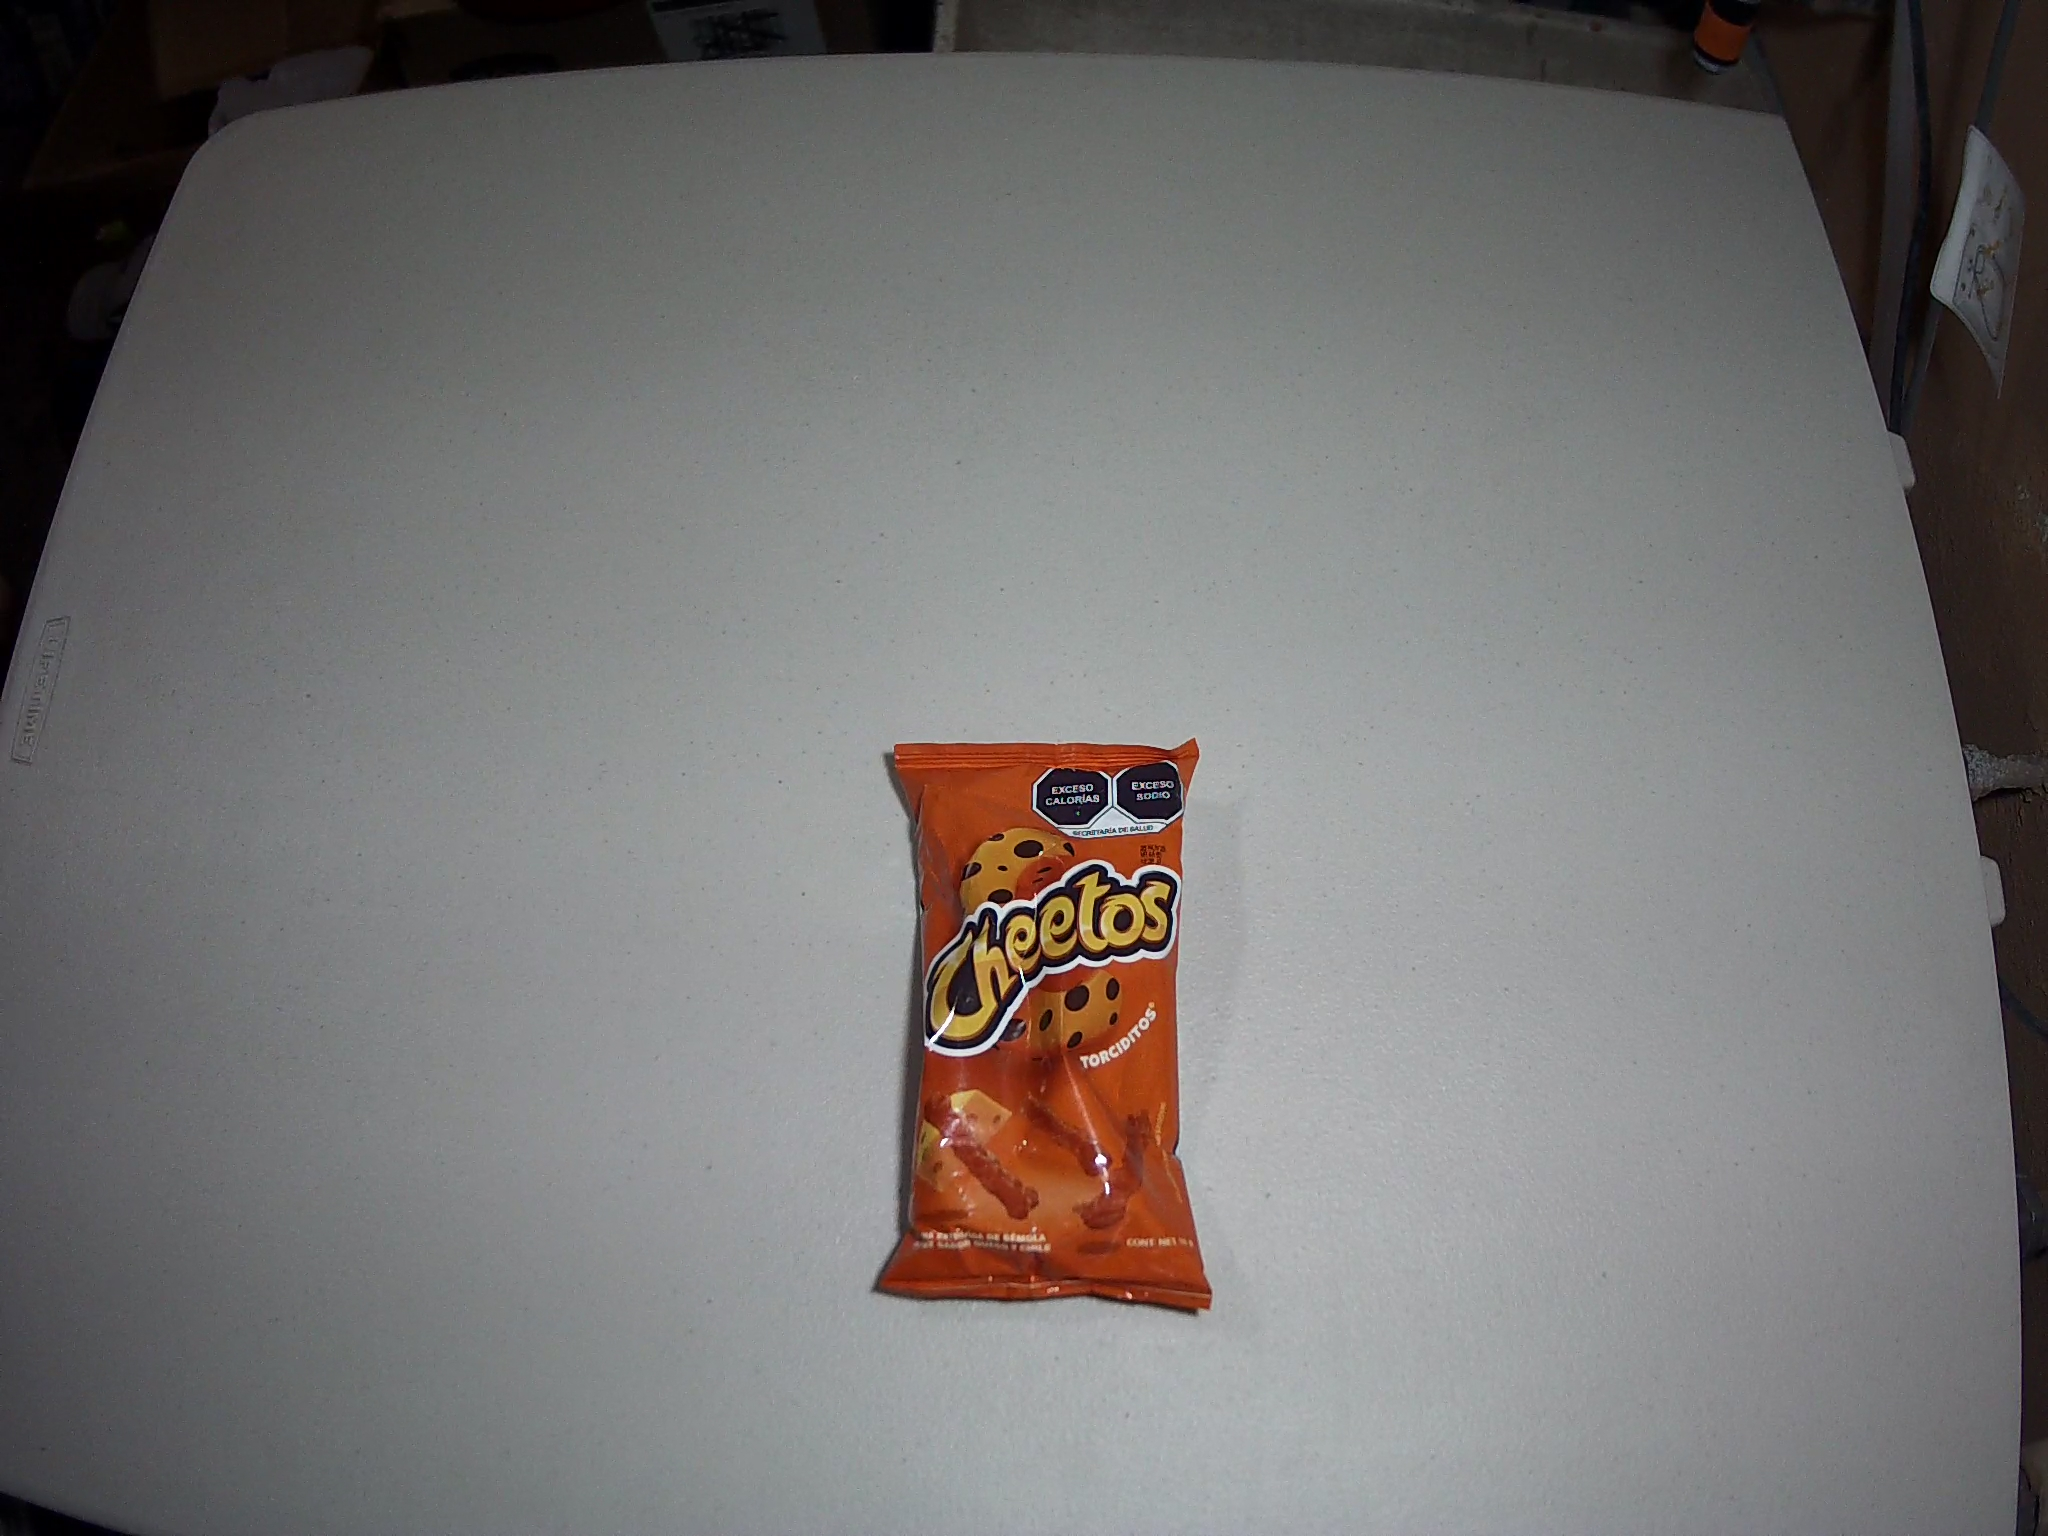CheetosTorciditos_55_F: (872, 737, 1209, 1309)
